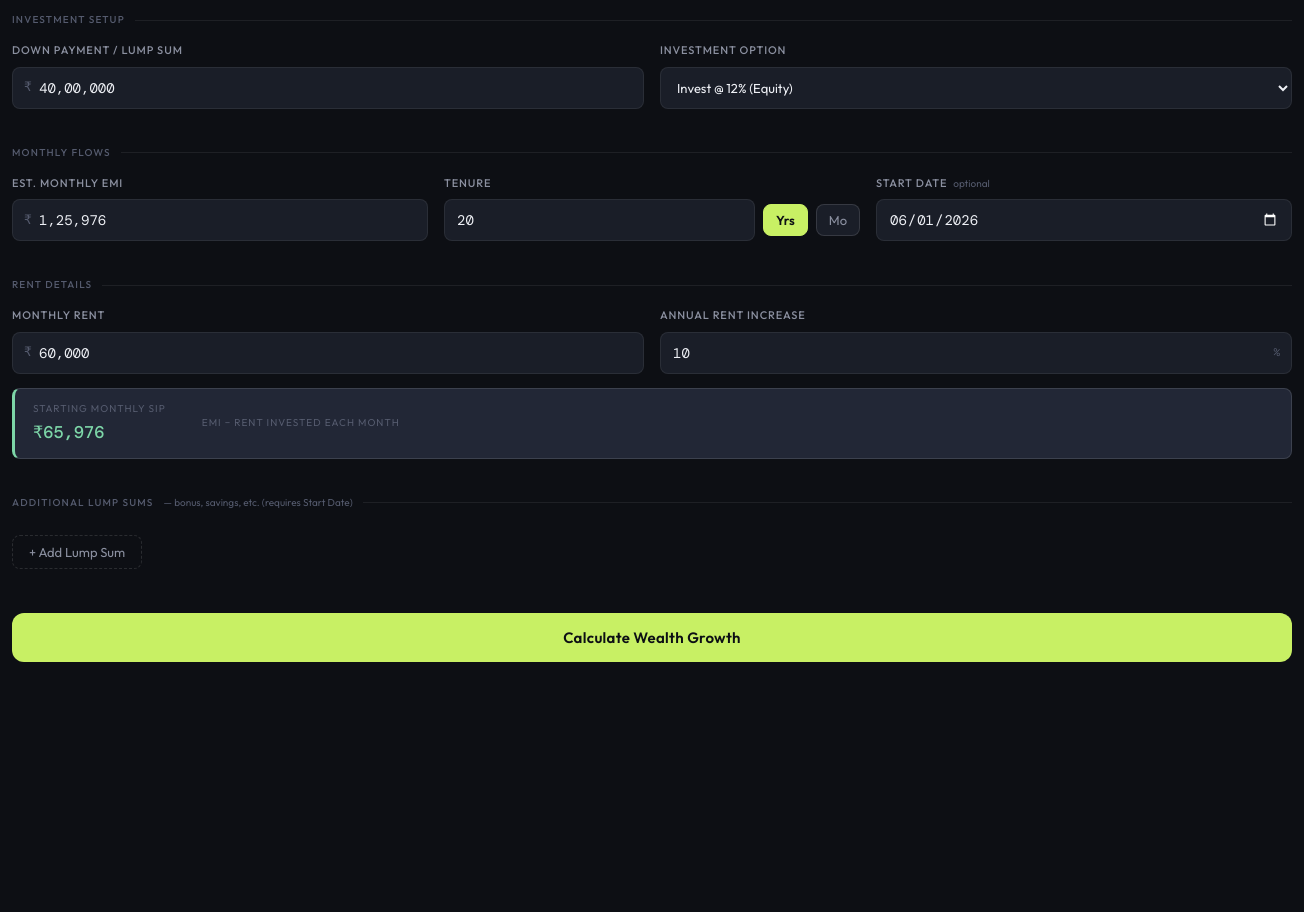
Test: RentInvestmentPage — lump sum rows › removes a row when its Remove button is clicked
The width and height of the screenshot is (1304, 912).
Click the button "+ Add Lump Sum" at (77, 552), box [12,535,142,569]
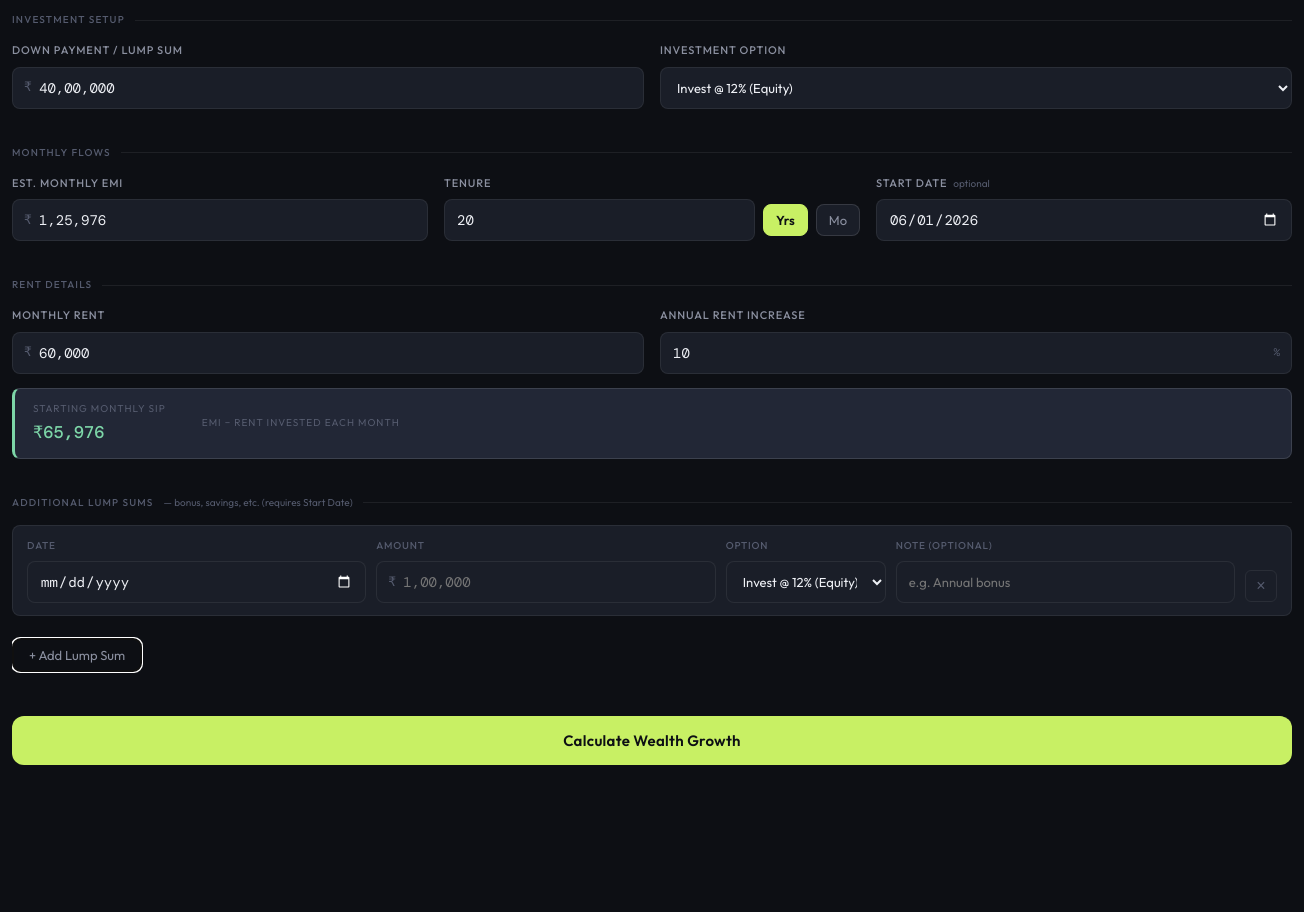
Click the button "+ Add Lump Sum" at (77, 655), box [12,638,142,672]
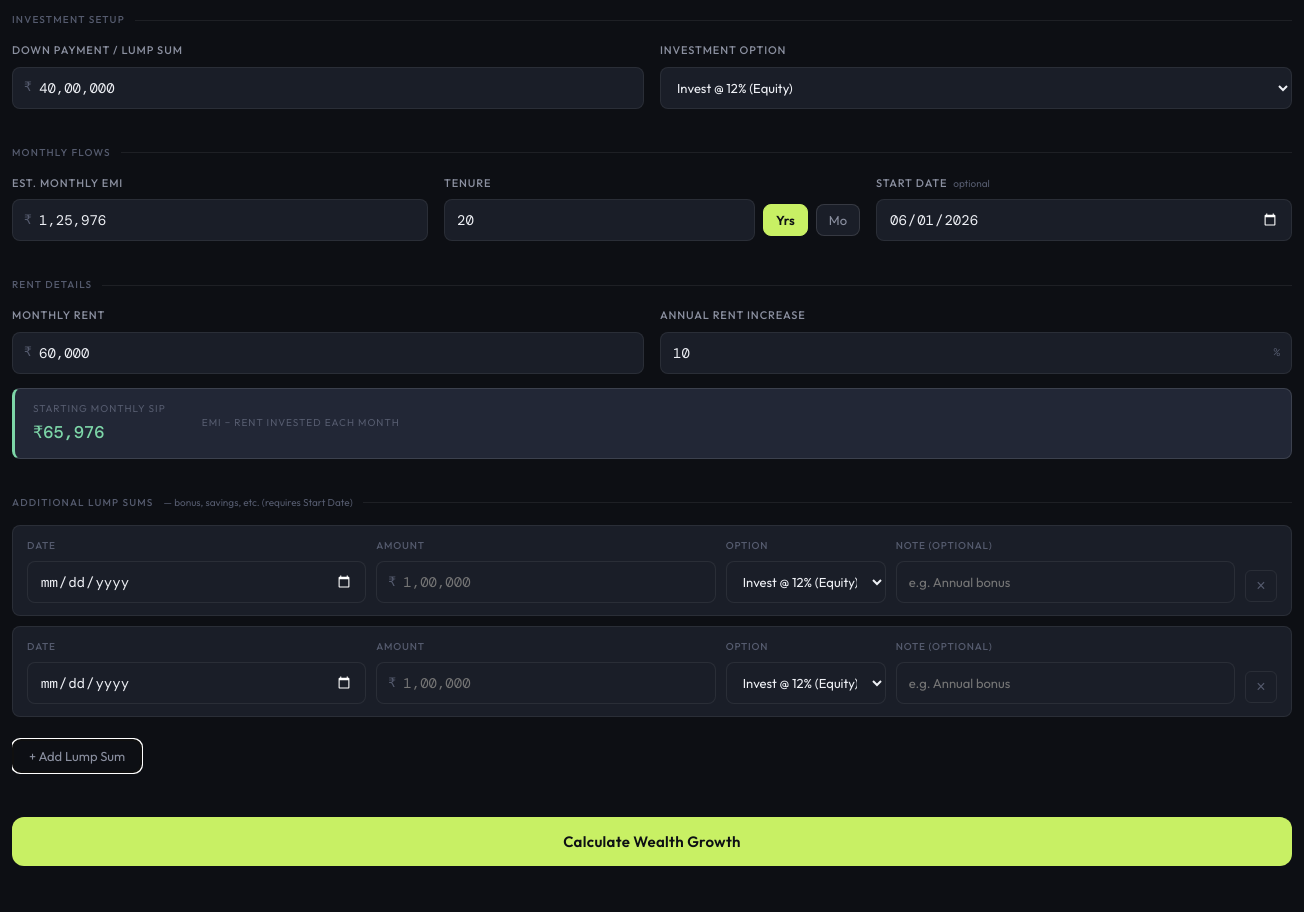
Result: the number of buttons titled "Remove" is 2
Click the 1st button titled "Remove" at (1261, 586), box [1245,570,1277,602]
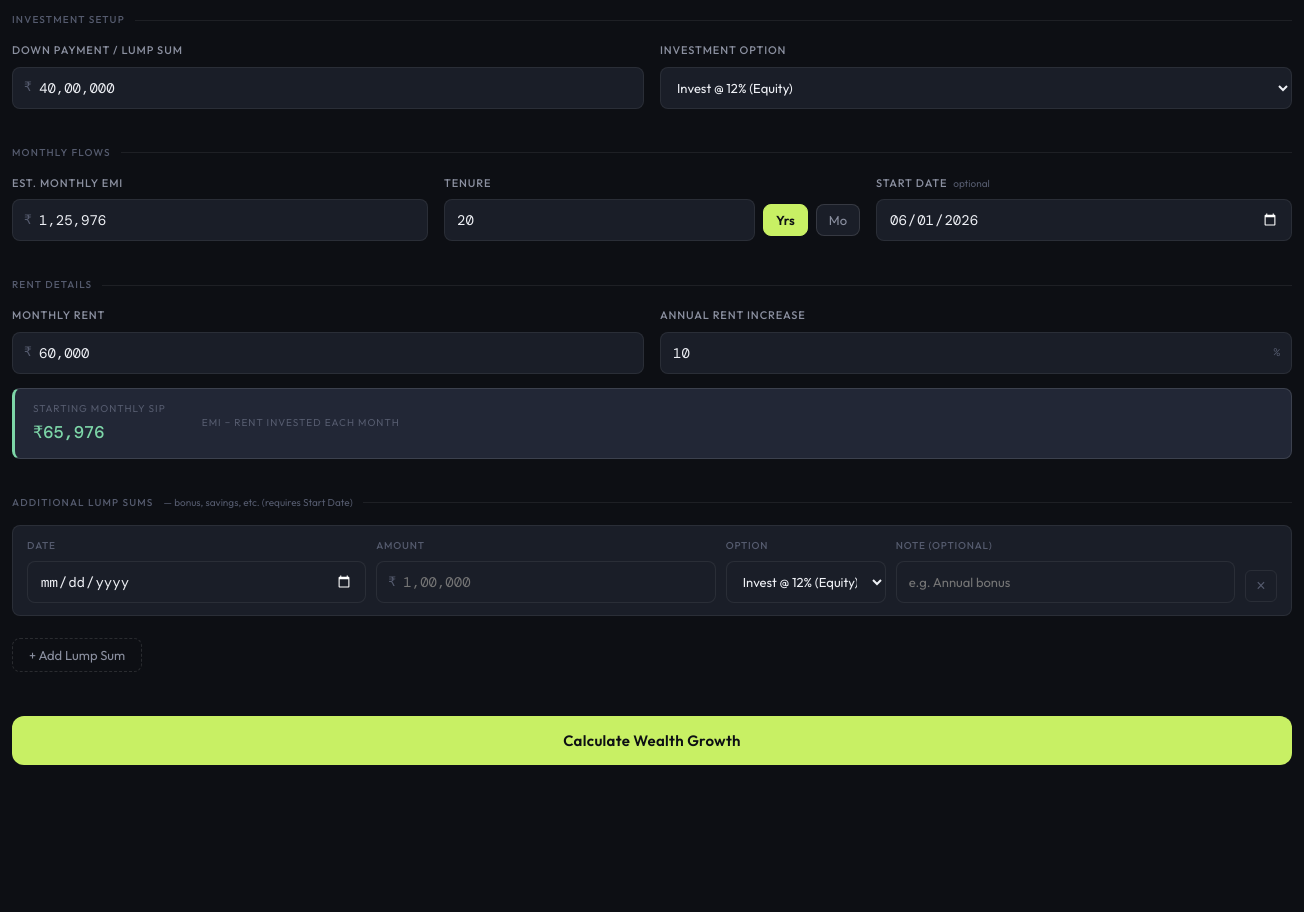
Result: the number of buttons titled "Remove" is 1 at [1245,570,1277,602]
